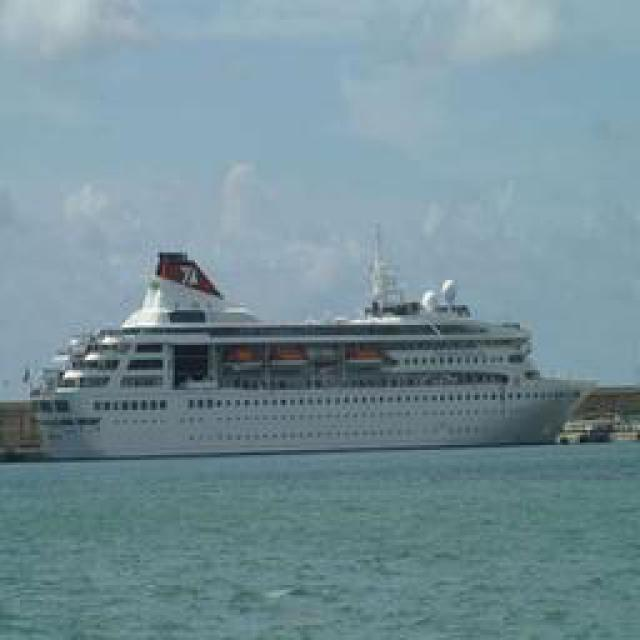Ship: (25, 245, 595, 460)
